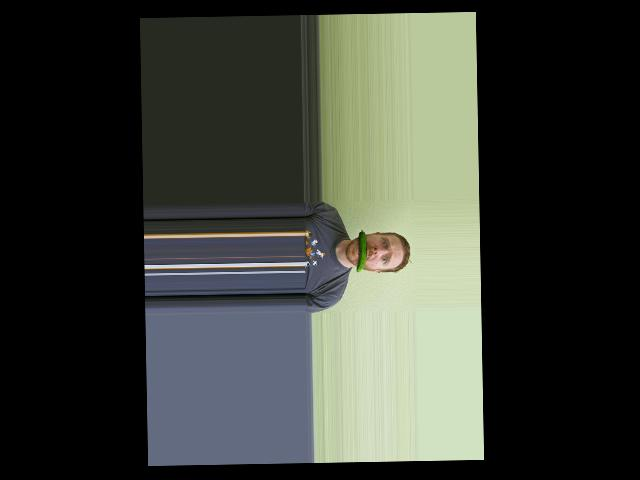cucumber: (355, 229, 366, 272)
